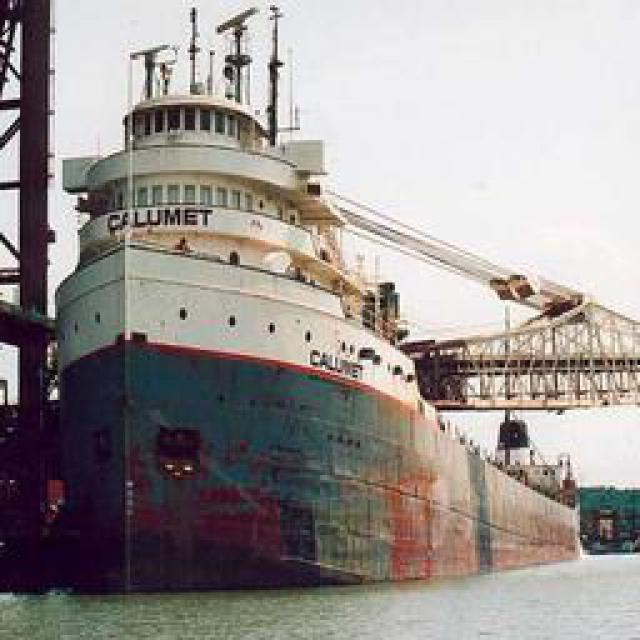Ship: (52, 1, 510, 596)
